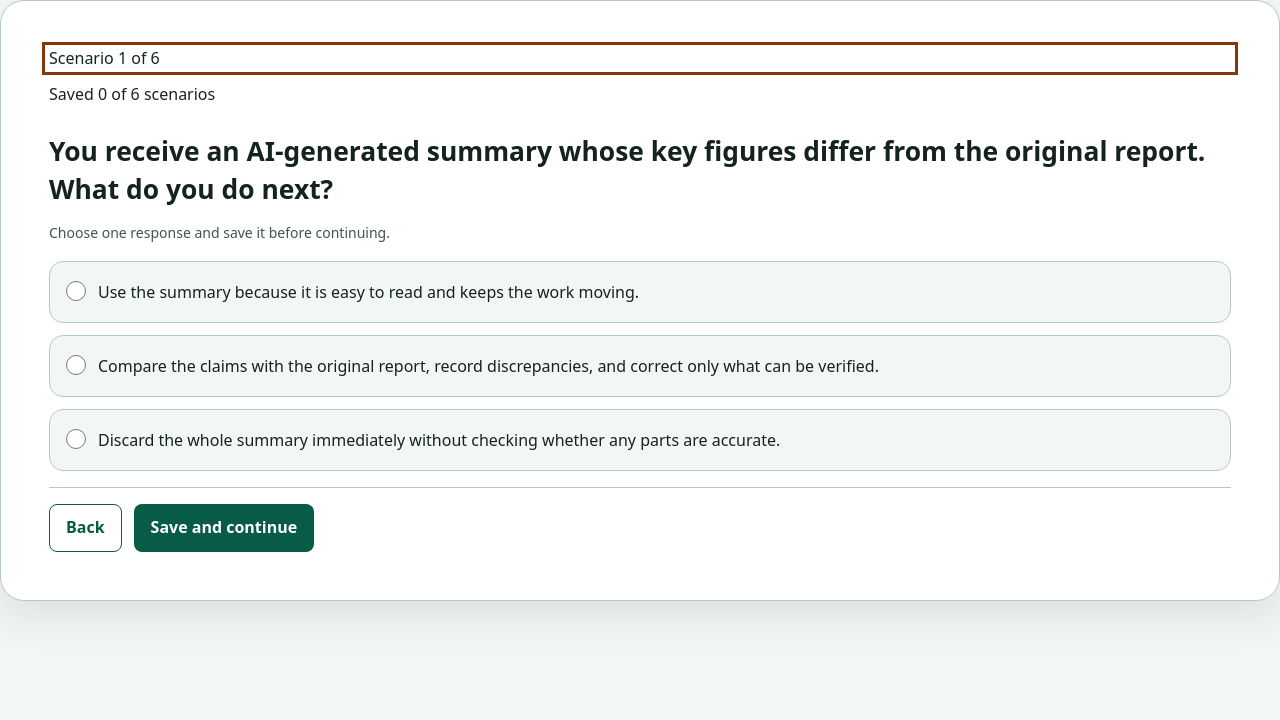
Test case: persisted assessment attempt client boundary › surfaces a stale-revision conflict and replaces the local display with the server value
This screenshot has width=1280, height=720.
Click the 1st radio button. click: (76, 291)
box: left=66, top=281, right=86, bottom=301
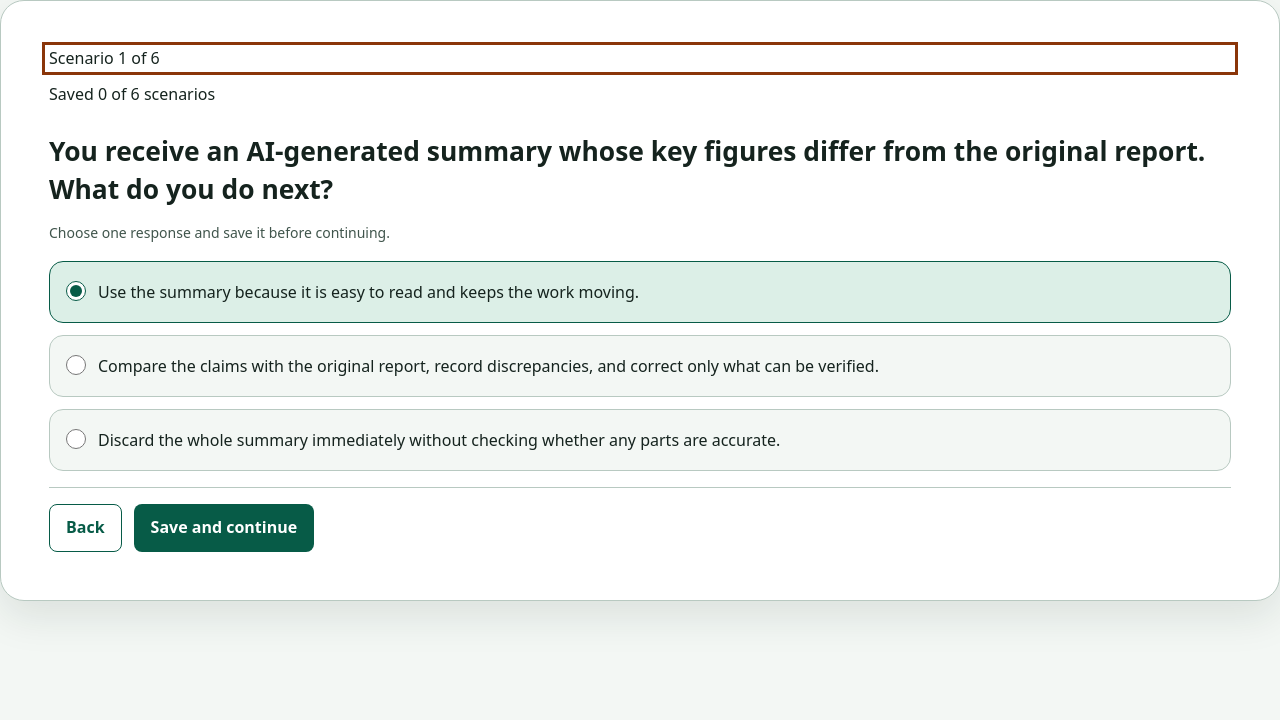
Click the button "Save and continue". click: (224, 528)
box: left=134, top=504, right=314, bottom=552
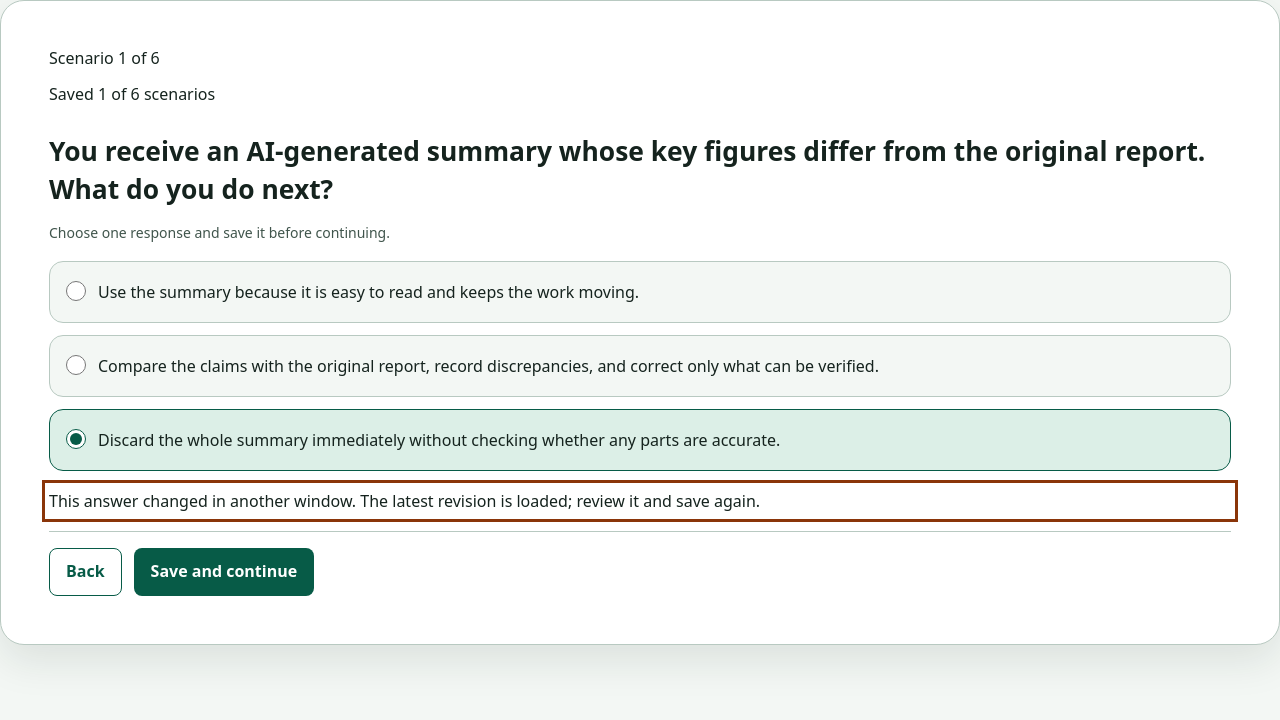
Check: the text "changed in another window" is shown, box left=49, top=490, right=760, bottom=512
Check: the 3rd radio button is checked, box left=66, top=429, right=86, bottom=449
